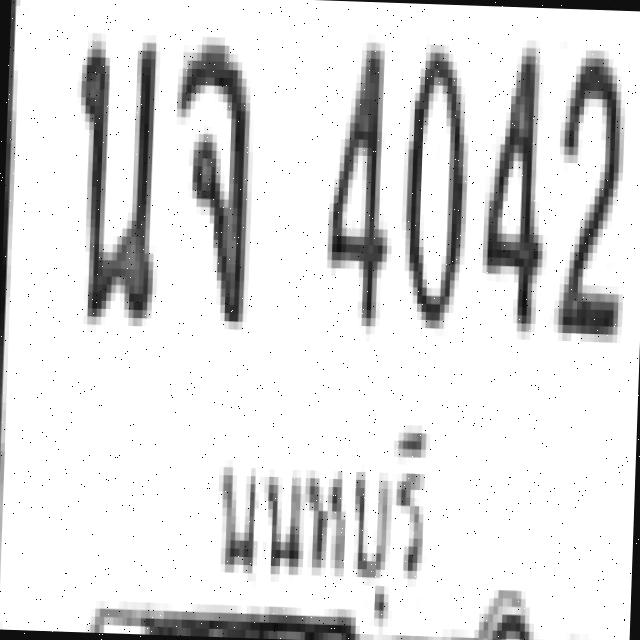0: (398, 36, 467, 320)
17ChorChan: (167, 36, 254, 322)
2: (551, 44, 625, 330)
34NorNu: (66, 28, 159, 322)
4: (320, 32, 390, 326), (476, 38, 544, 323)
Nonthaburi: (196, 406, 431, 624)
